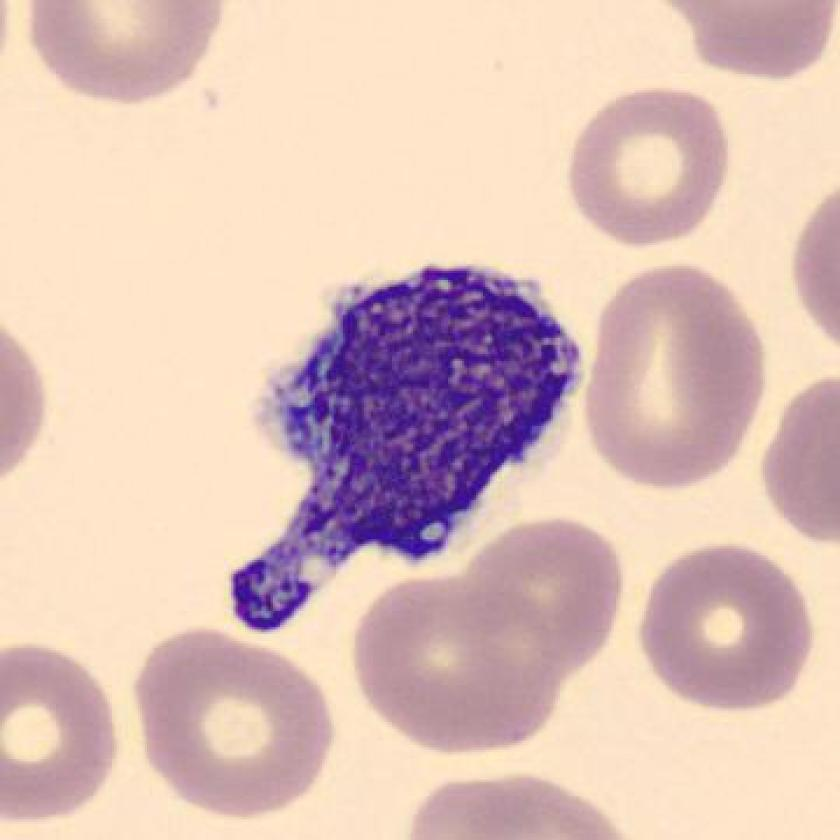monocyte: (199, 237, 603, 658)
